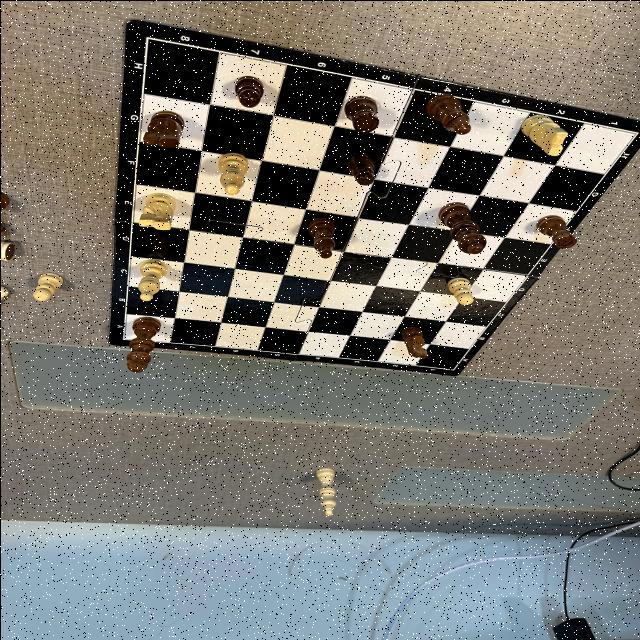Black-Bishop: (424, 92, 469, 134), (308, 217, 334, 258)
Black-King: (125, 316, 159, 372)
Black-Knight: (142, 110, 184, 148), (400, 326, 428, 358)
Black-Pawn: (234, 75, 263, 107), (346, 154, 374, 184)
Black-Queen: (437, 202, 485, 254)
Black-Rook: (342, 95, 378, 133), (536, 214, 576, 248)
White-Bishop: (218, 152, 248, 194), (138, 258, 166, 300)
White-King: (315, 466, 335, 514)
White-Knight: (520, 114, 568, 155), (138, 192, 174, 230)
White-Pawn: (32, 272, 62, 300), (446, 278, 473, 304)
